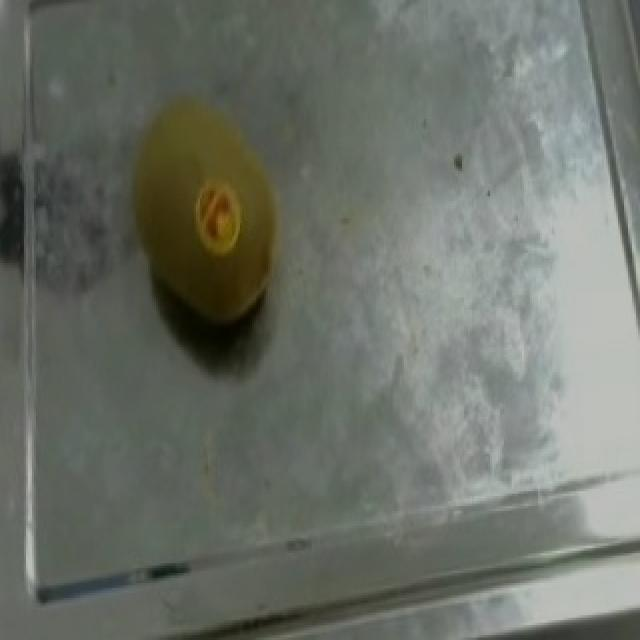Fruit: (100, 82, 298, 340)
